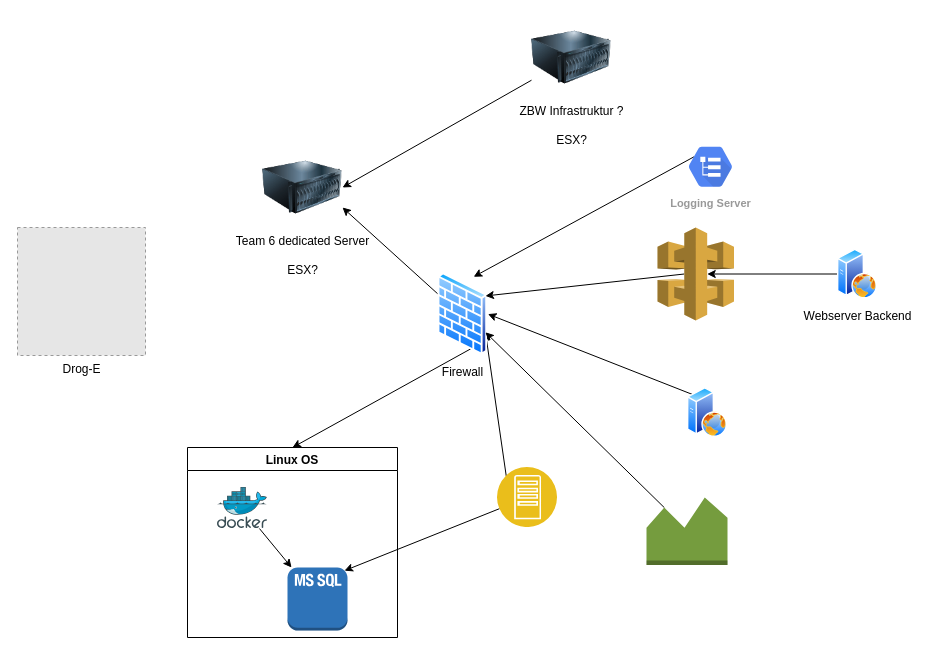
The diagram is 929 pixels wide and 655 high, and some of its shapes have lost their labels. Grey dashed boxes stand in for pictures. Each missing label, with the centre of its shape:
"Applikation Server" goes at [527,497].
"Applikation-Gateway mit Roboter" goes at [695,273].
"Monitoring Server Watchdog Mechanismus" goes at [687,530].
"Webserver Frontend" goes at [707,412].
